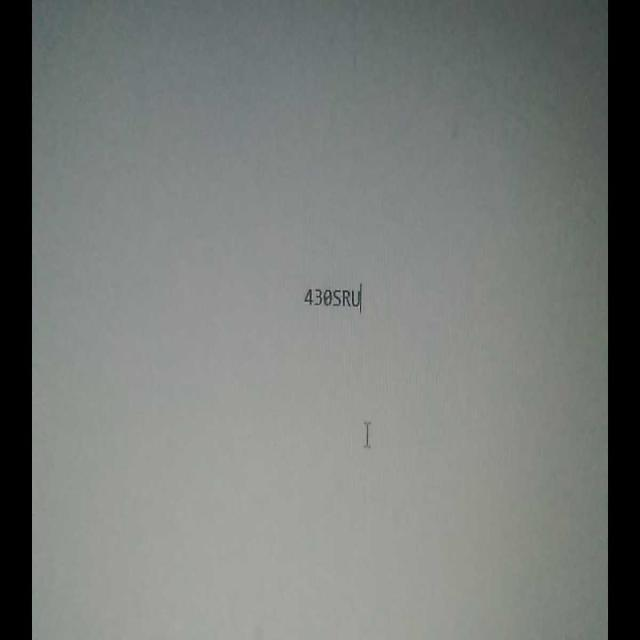license_plate: (296, 284, 362, 314)
